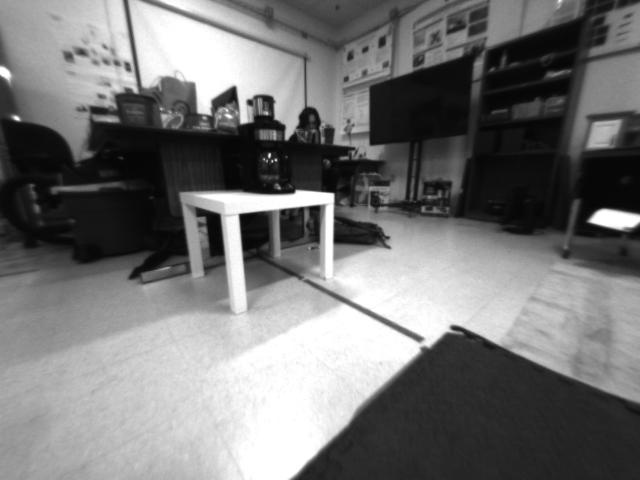coffee_pot: (234, 117, 303, 198)
